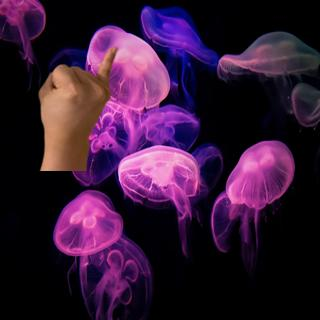FINE: (36, 42, 122, 145)
